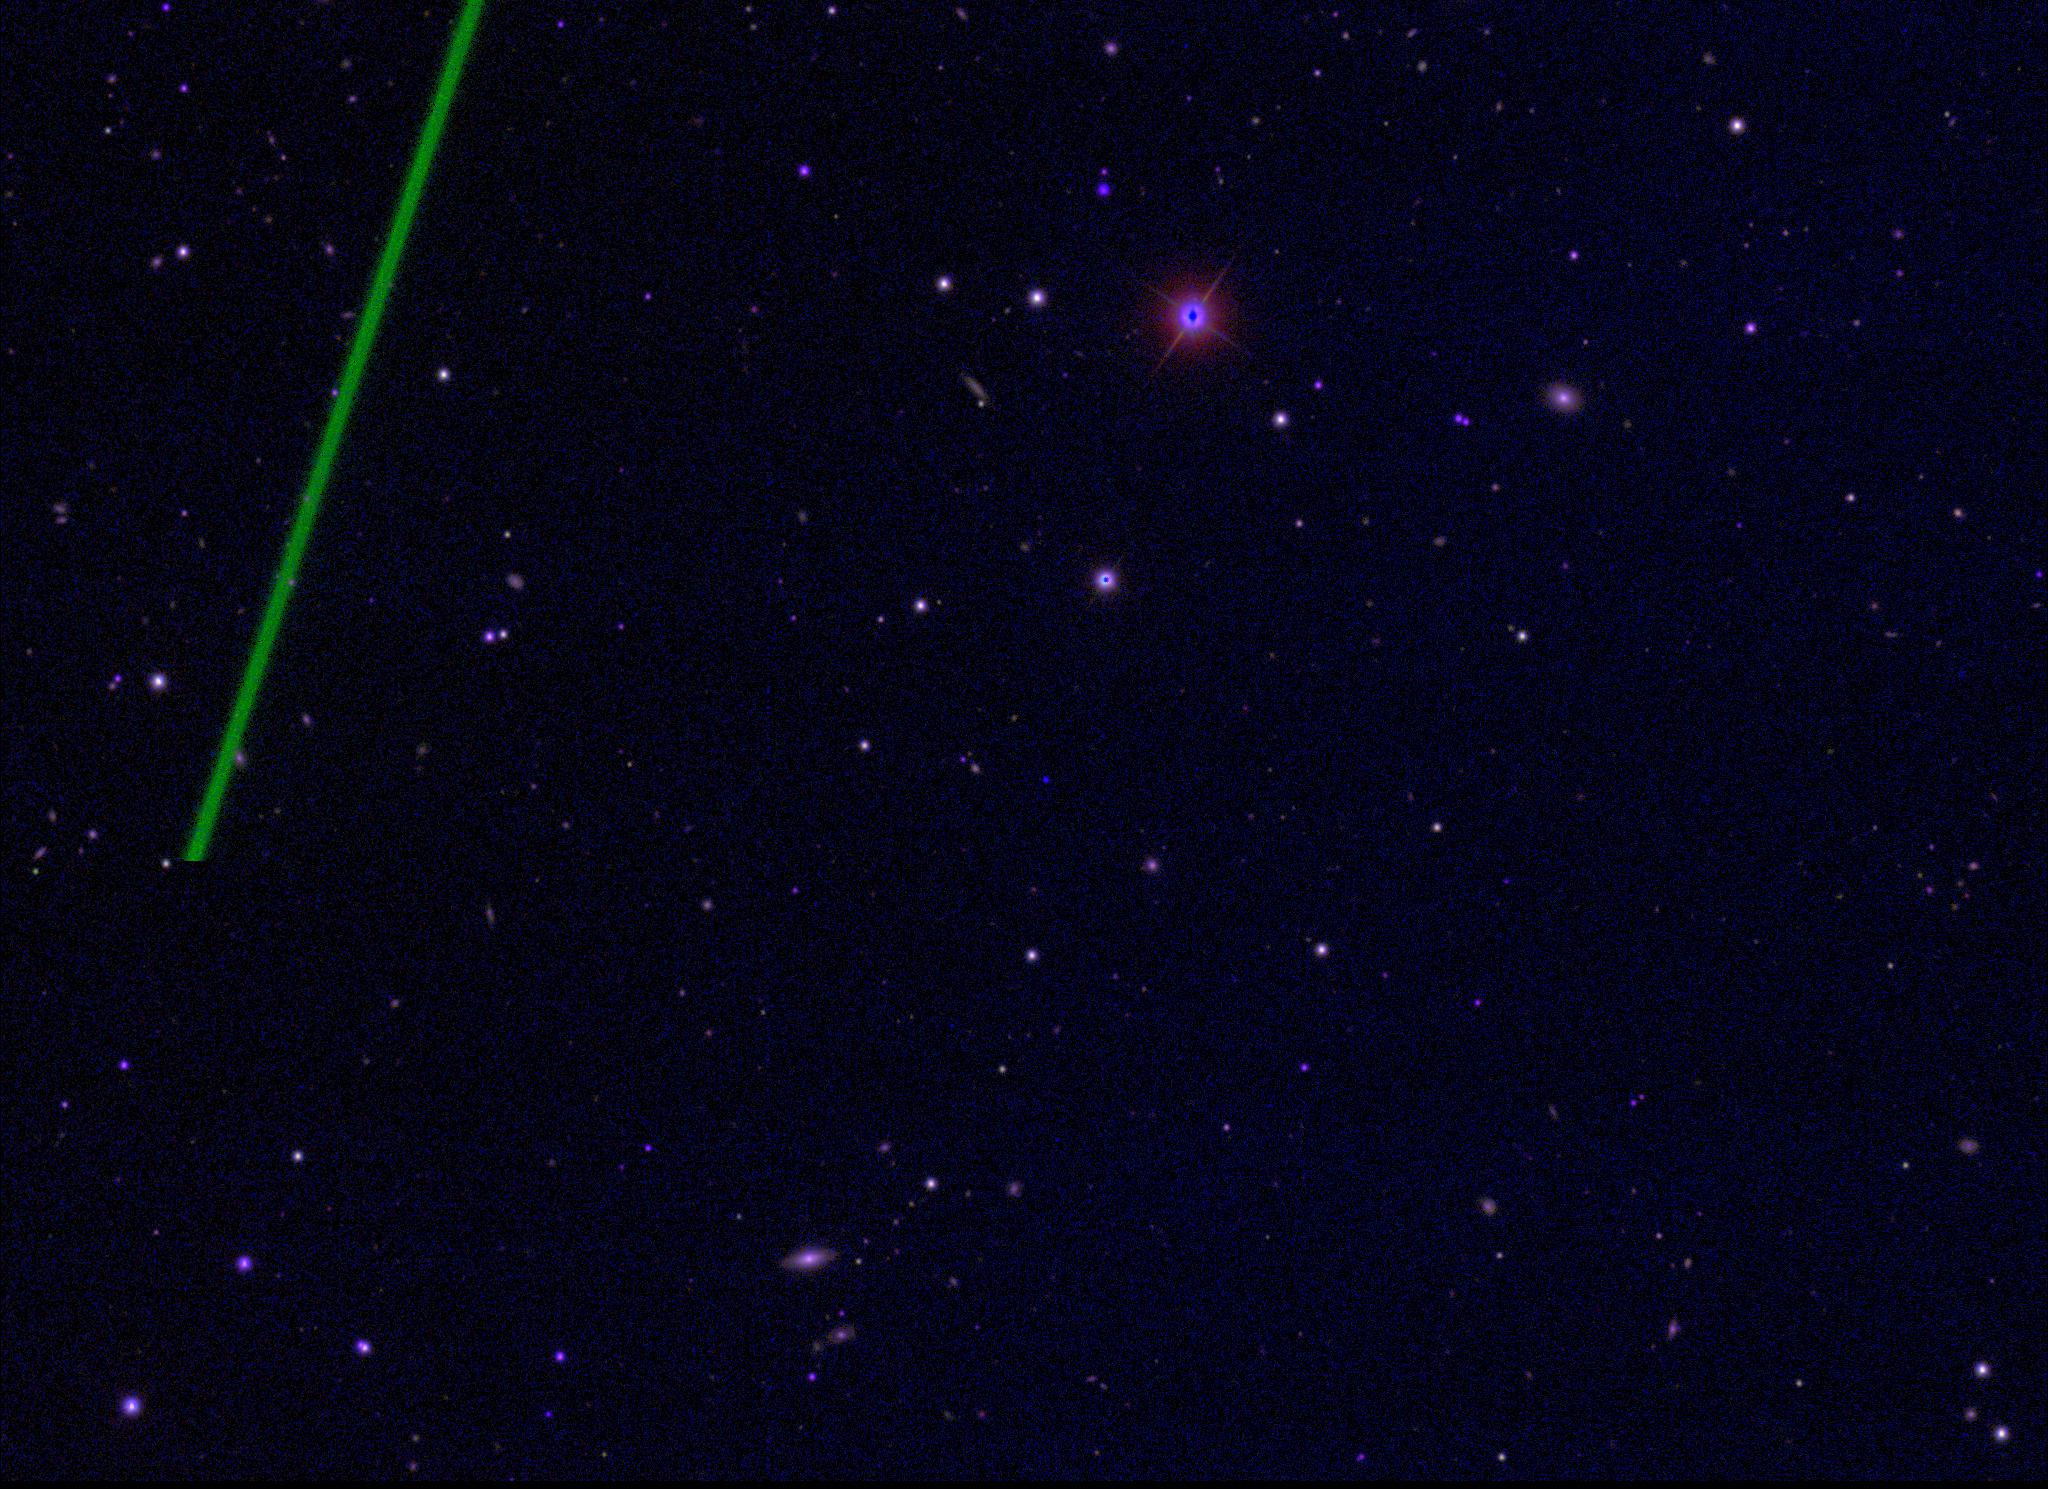L: (1038, 773, 1053, 787)
